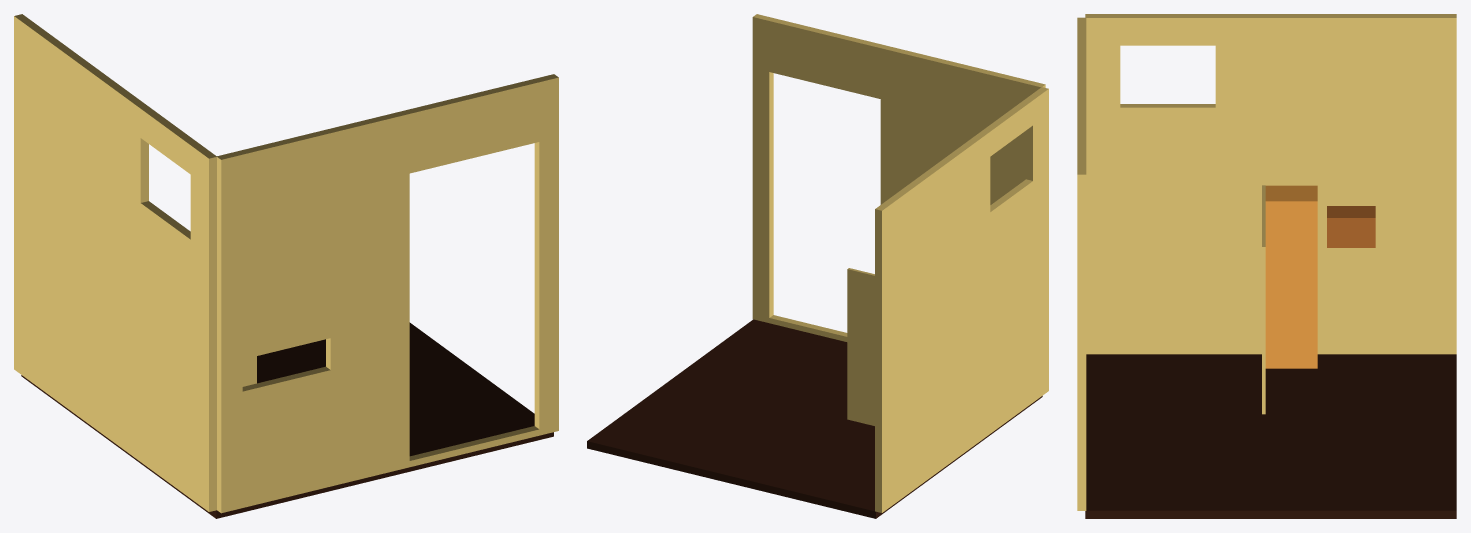
File: Template Room.fbx
3 renders of one model, left to right at view 1: azimuth 30°, elevation 25°; view 2: azimuth 150°, elevation 25°; view 3: azimuth 270°, elevation 25°, orthographic. The views are drawn at different scales.
Visible parts, largest first — view 1: Node 0; view 2: Node 0; view 3: Node 0.
Boxes of the visible parts, bbox=[...] form: Node 0: bbox=[14, 14, 558, 518]; Node 0: bbox=[587, 14, 1048, 518]; Node 0: bbox=[1077, 14, 1456, 518].
Size of the model in its own units: 5.33 by 5.34 by 5.33.
